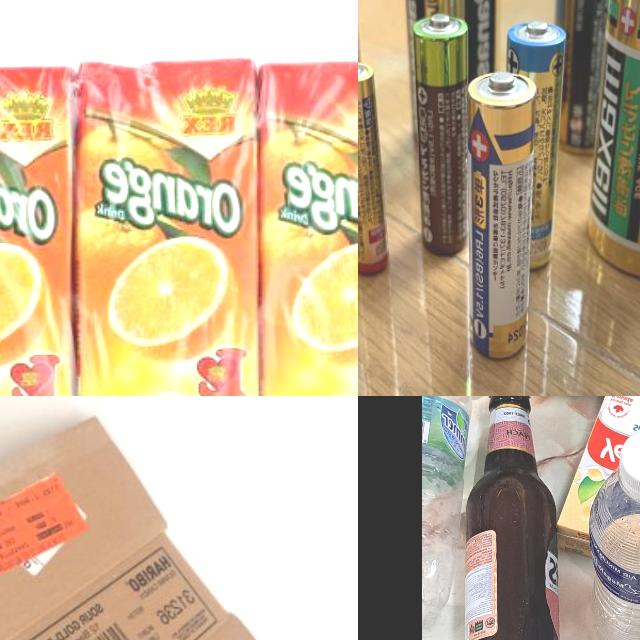bateria: (464, 66, 538, 362), (500, 16, 568, 280), (580, 0, 640, 288), (398, 0, 505, 156), (407, 9, 473, 260), (546, 0, 621, 159), (358, 60, 396, 281)
caixinha: (75, 54, 253, 396), (260, 50, 358, 396), (0, 58, 70, 396), (556, 396, 640, 553)
garrafa de vidro: (465, 396, 559, 640)
garrafa plástica: (422, 396, 470, 628), (589, 476, 640, 640)
papelão: (0, 417, 304, 640)
tampa plástica: (617, 428, 640, 501)
